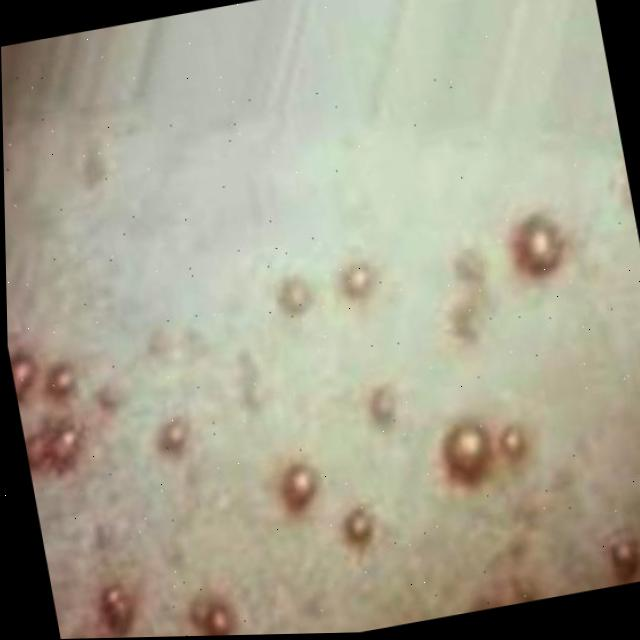Shingles: (4, 144, 640, 640)
